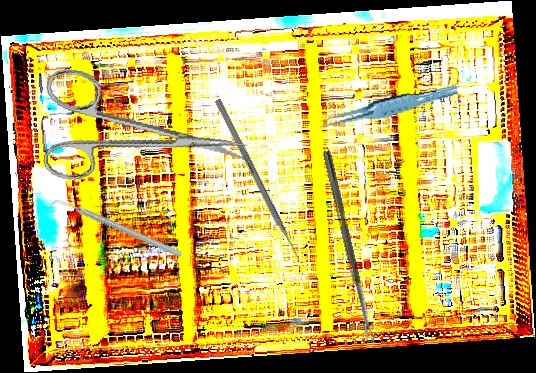Chopper: (47, 159, 184, 298)
Iris Scissors: (31, 65, 256, 210)
Pusher: (213, 98, 307, 271)
Surgical Spoon: (321, 149, 375, 344)
Tissue Forceps: (316, 83, 460, 130)
